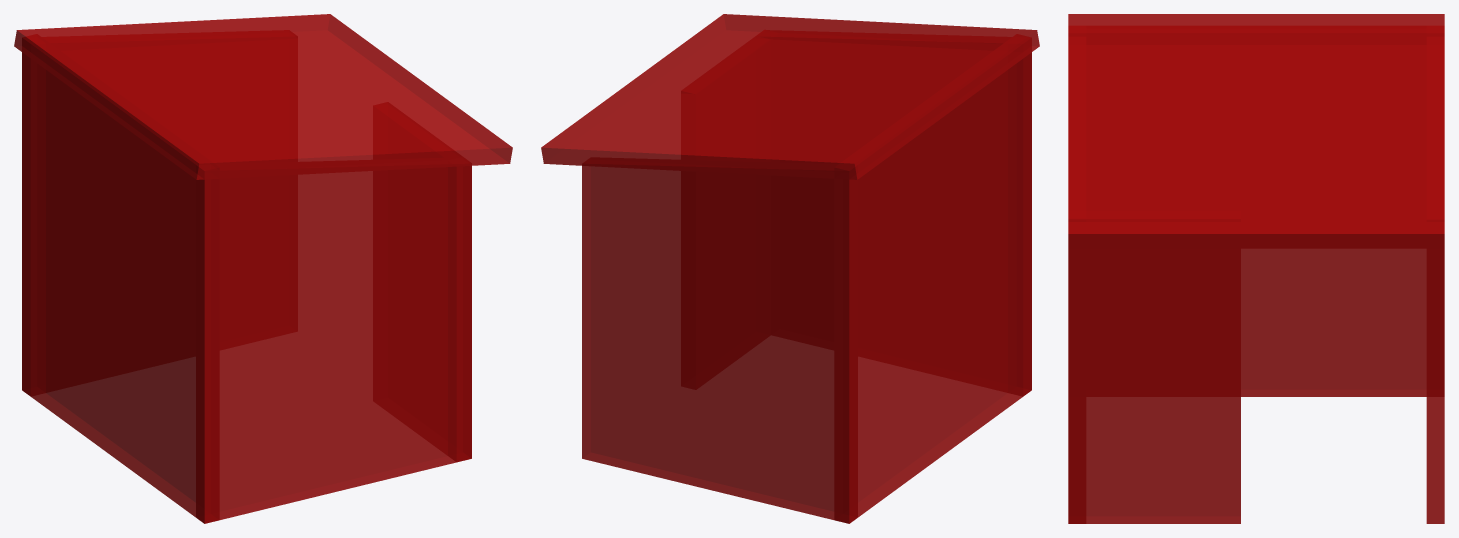
Rendered from SM_Bld_Shack_02_Collision.fbx.
The picture shows the model from 3 angles, left to right: view 1: azimuth 30°, elevation 25°; view 2: azimuth 150°, elevation 25°; view 3: azimuth 270°, elevation 25°; orthographic projection. The views are drawn at different scales.
Visible parts, largest first — view 1: SM_Bld_Shack_02_Collision; view 2: SM_Bld_Shack_02_Collision; view 3: SM_Bld_Shack_02_Collision.
Part boxes in pixels (x1,y1,x2,y2): SM_Bld_Shack_02_Collision: (14, 14, 512, 523); SM_Bld_Shack_02_Collision: (541, 14, 1039, 523); SM_Bld_Shack_02_Collision: (1068, 14, 1444, 523).
Size of the model in its own units: 257 by 281 by 257.
